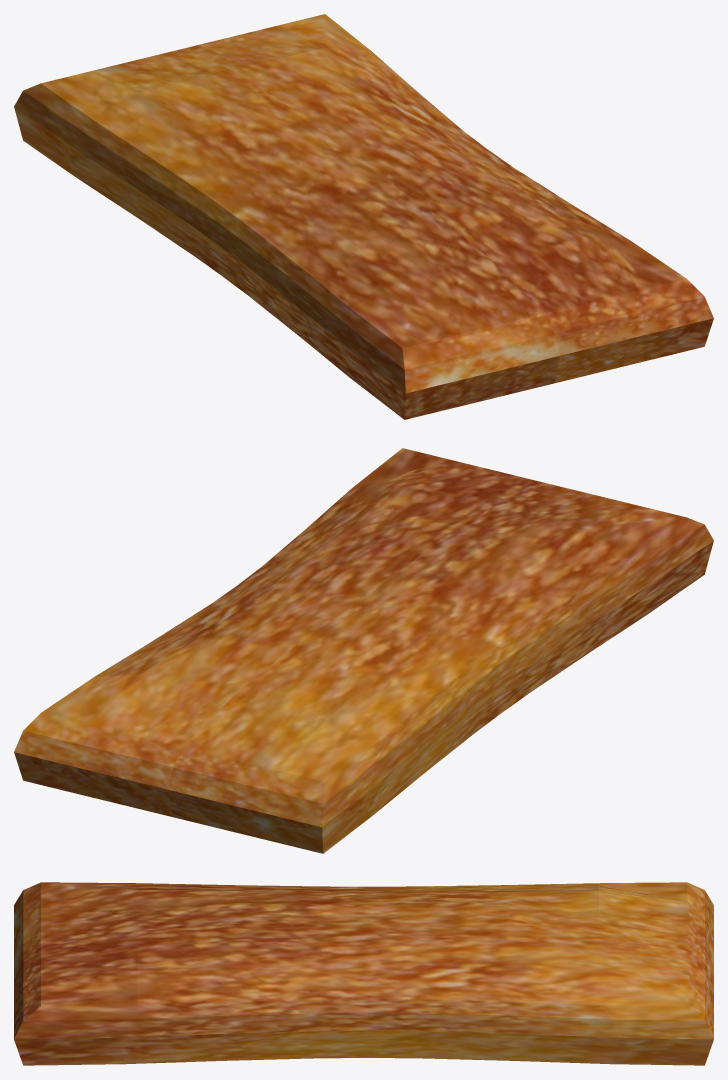
Rendered from kaassoufle1.fbx.
3 views of the same model, one above another, from view 1: azimuth 30°, elevation 25°; view 2: azimuth 150°, elevation 25°; view 3: azimuth 270°, elevation 25° (orthographic). The views are drawn at different scales.
Parts seen in each view (by area): view 1: Cube; view 2: Cube; view 3: Cube.
Boxes of the visible parts, x1,y1,x2,y2 form: Cube: (14, 14, 713, 419); Cube: (14, 448, 713, 853); Cube: (14, 882, 713, 1065).
Bounding box in the file's own units: 0.0717 × 0.0187 × 0.1578.
